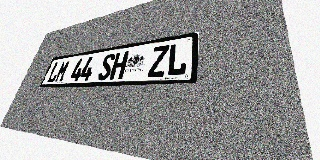4: (78, 56, 97, 81), (69, 58, 87, 82)
H: (109, 51, 129, 80)
L: (166, 42, 188, 76), (46, 61, 62, 83)
M: (54, 60, 71, 83)
S: (97, 53, 116, 80)
Z: (147, 45, 169, 77)
